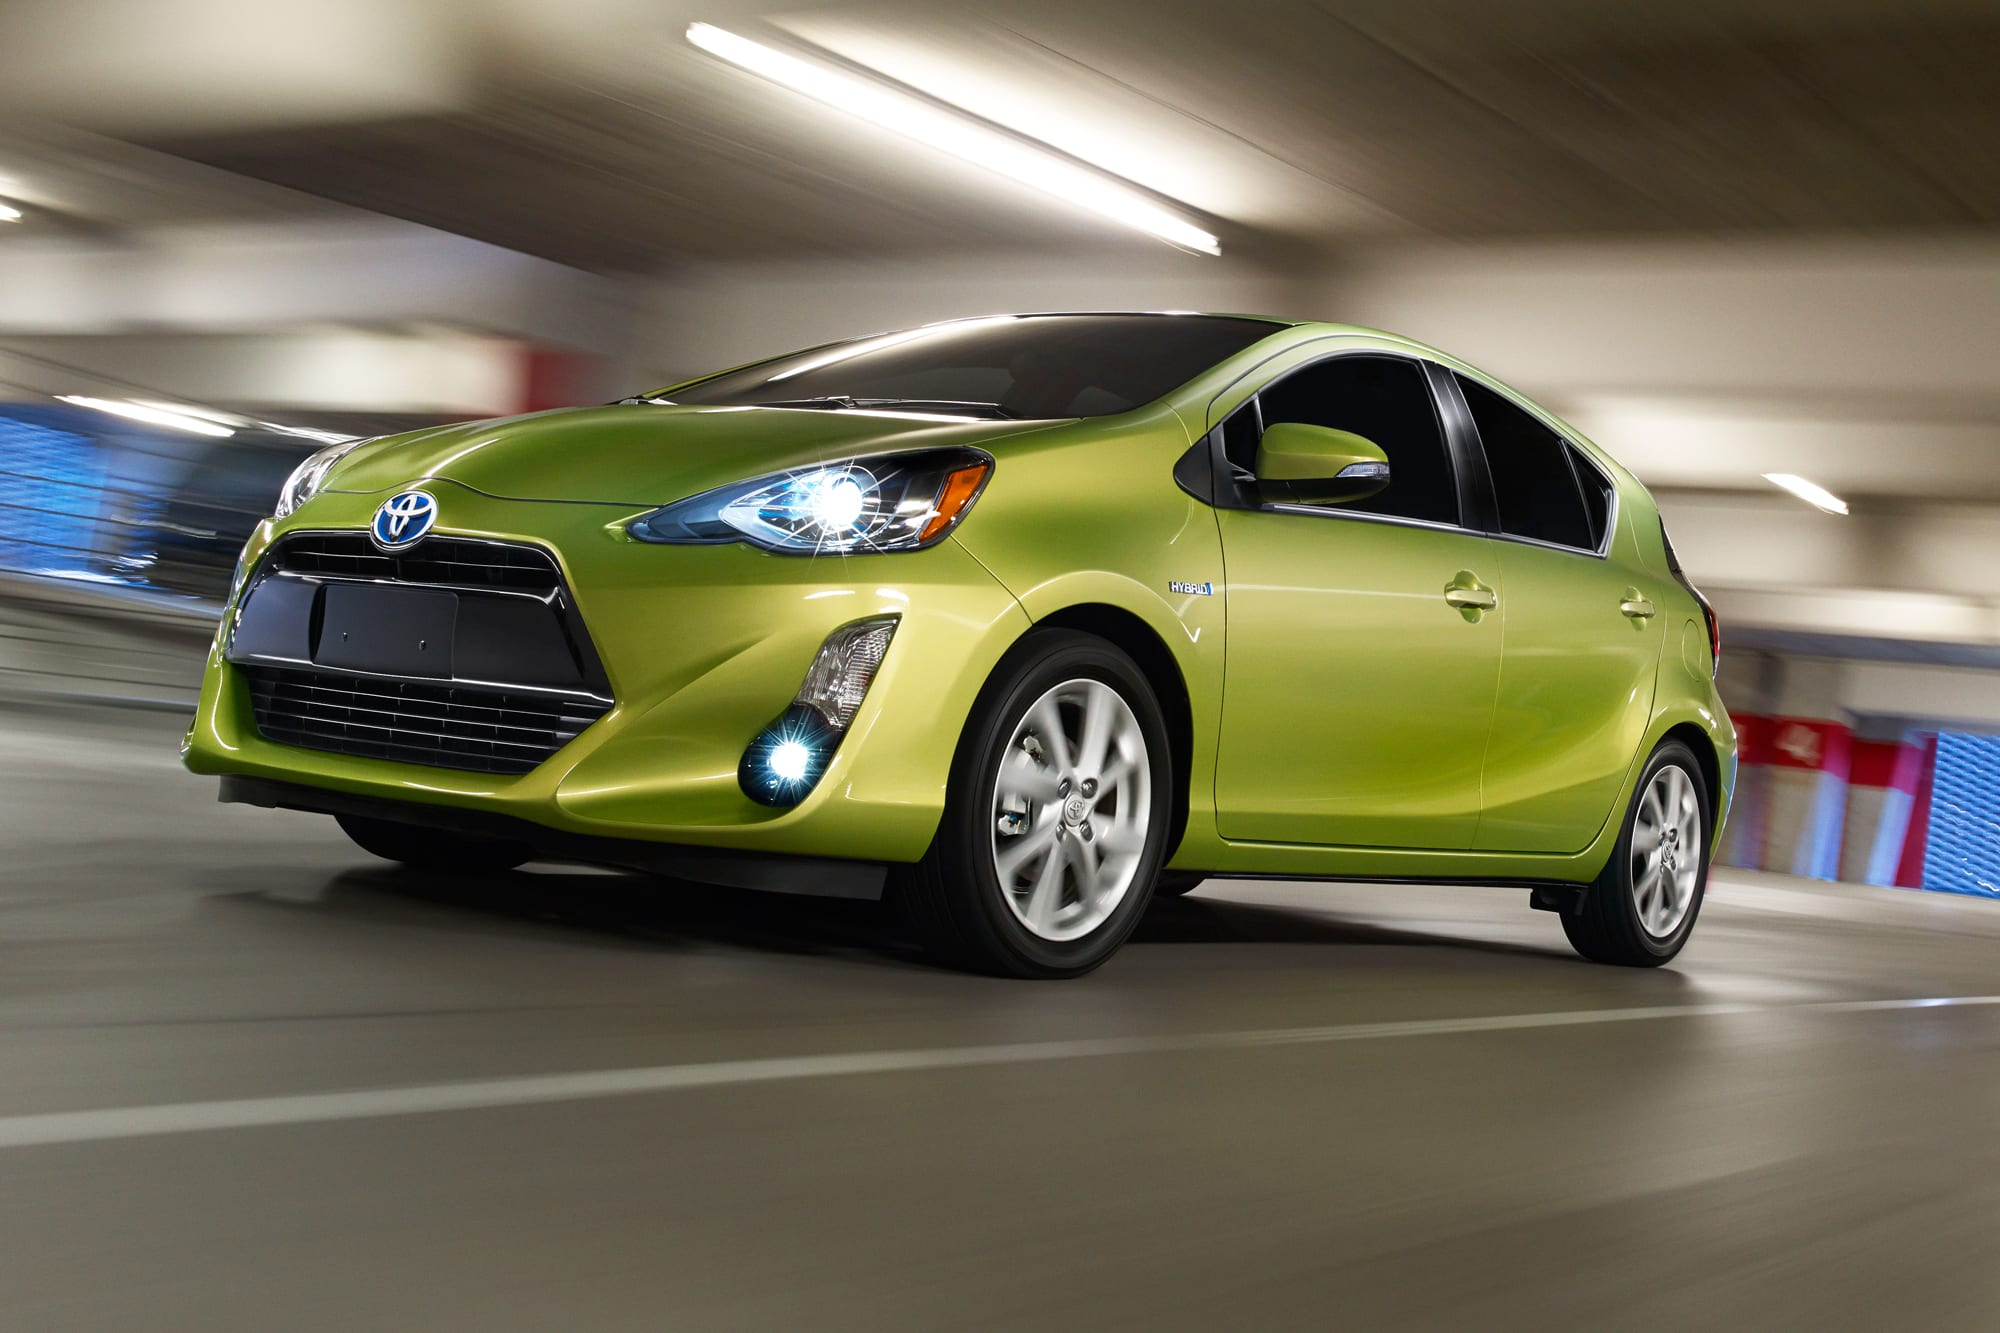Toyota Prius: (168, 303, 1746, 991)
